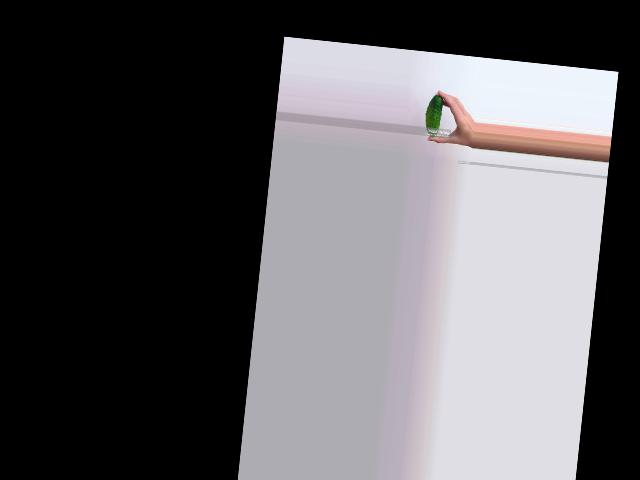cucumber: (423, 94, 443, 137)
